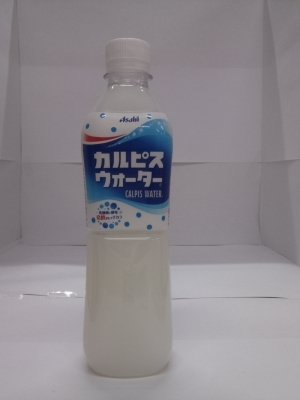calpis: (66, 27, 189, 391)
